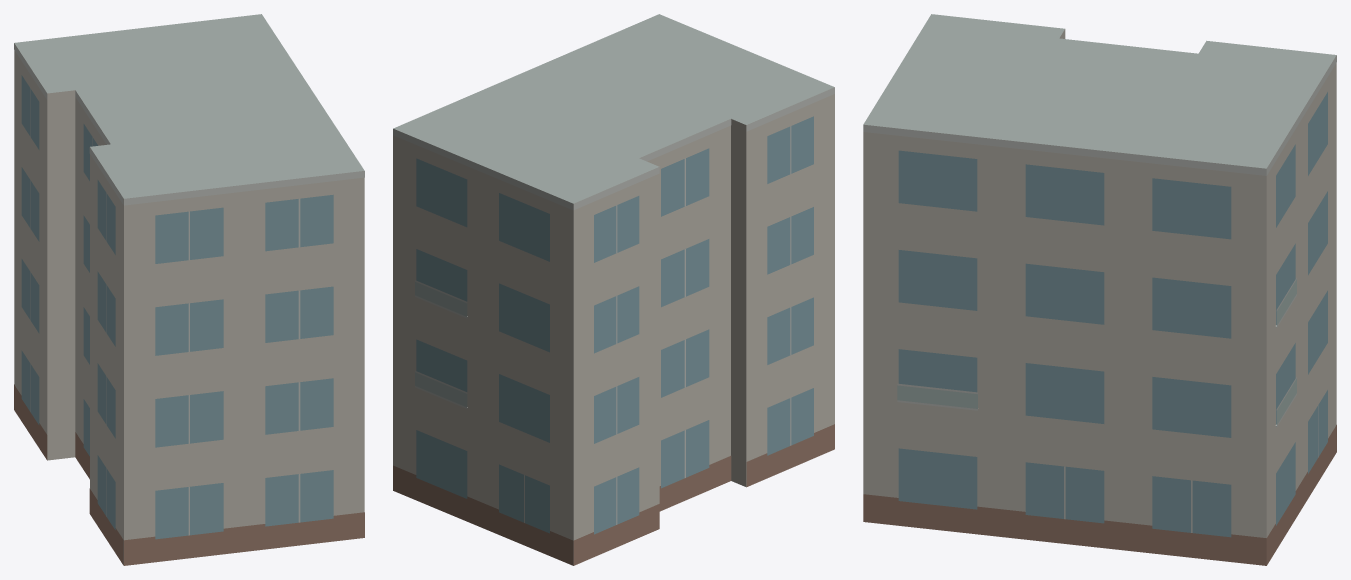
Rendered from survey-upis-32831171.glb.
3 views of the same model, side by side, from view 1: azimuth 30°, elevation 25°; view 2: azimuth 150°, elevation 25°; view 3: azimuth 270°, elevation 25° (orthographic). The views are drawn at different scales.
Parts seen in each view (by area): view 1: survey-upis-32831171.tmp; view 2: survey-upis-32831171.tmp; view 3: survey-upis-32831171.tmp.
Part boxes in pixels (x1,y1,x2,y2): survey-upis-32831171.tmp: (14, 14, 364, 565); survey-upis-32831171.tmp: (393, 14, 834, 565); survey-upis-32831171.tmp: (863, 14, 1336, 565).
Bounding box in the file's own units: 11.03 × 13.2 × 14.27.
